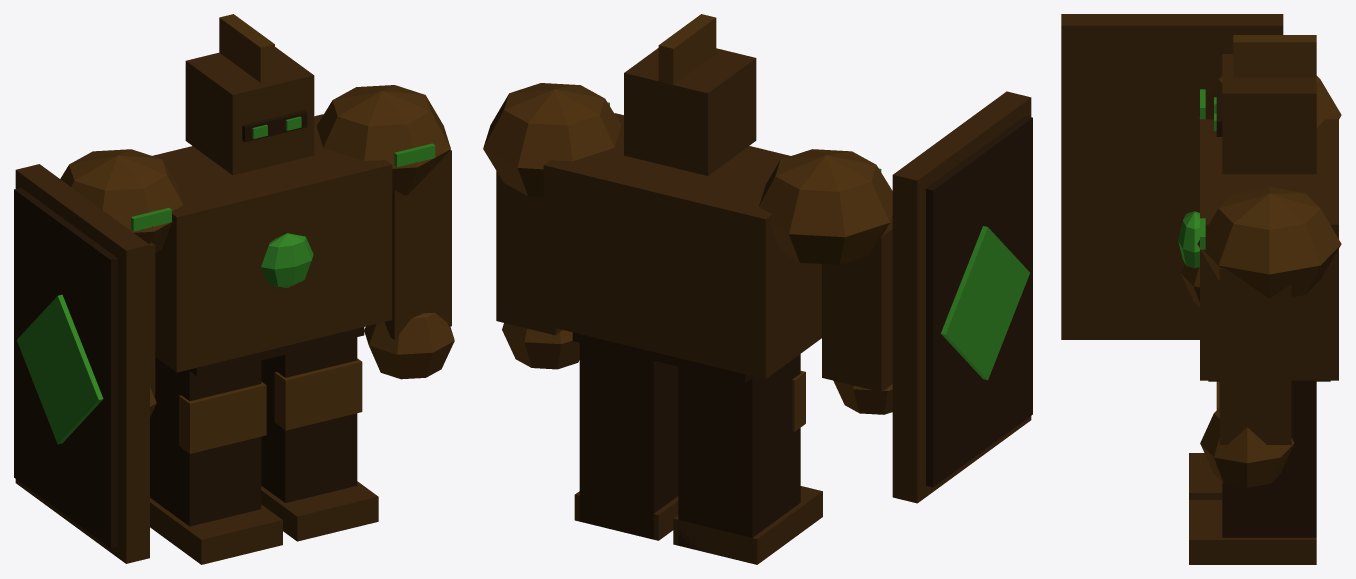
The model's file is SM_Champion_9001_Alesk.glb.
3 renders of one model, left to right at view 1: azimuth 30°, elevation 25°; view 2: azimuth 150°, elevation 25°; view 3: azimuth 270°, elevation 25°, orthographic. The views are drawn at different scales.
Visible parts, largest first — view 1: SM_Champion_9001_Alesk; view 2: SM_Champion_9001_Alesk; view 3: SM_Champion_9001_Alesk.
Part boxes in pixels (x1,y1,x2,y2): SM_Champion_9001_Alesk: [14, 14, 454, 564]; SM_Champion_9001_Alesk: [483, 14, 1032, 564]; SM_Champion_9001_Alesk: [1061, 14, 1341, 564].
Size of the model in its own units: 1.73 by 1.83 by 0.9615.
